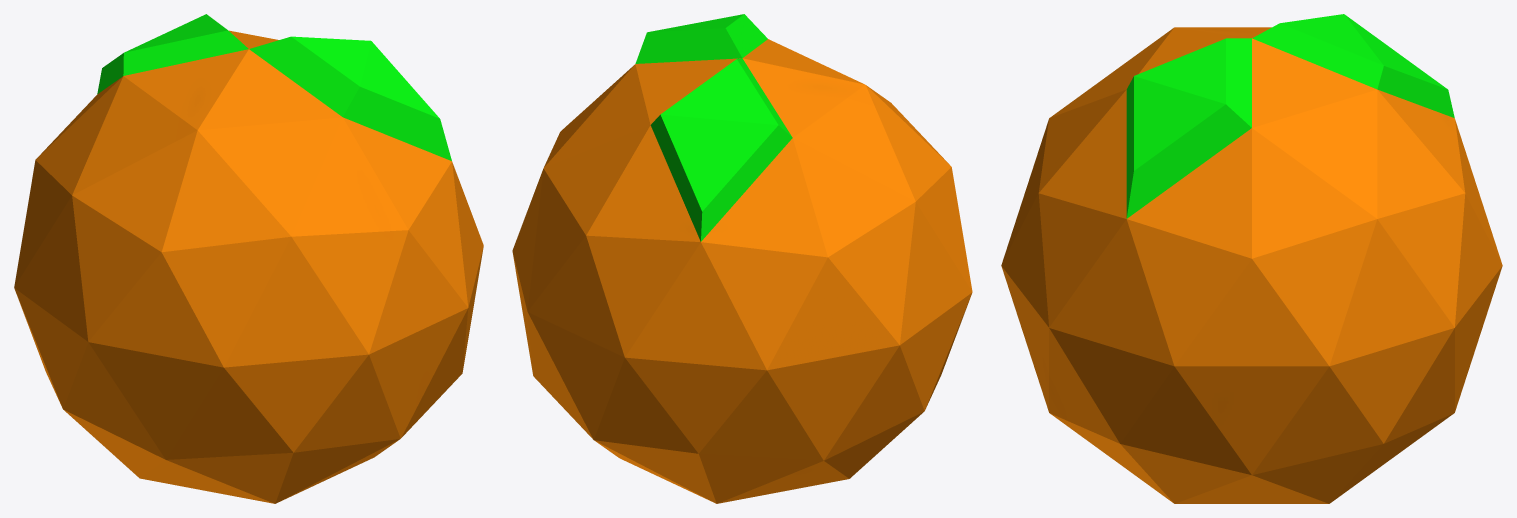
Rendered from orange.fbx.
The picture shows the model from 3 angles, left to right: view 1: azimuth 30°, elevation 25°; view 2: azimuth 150°, elevation 25°; view 3: azimuth 270°, elevation 25°; orthographic projection. The views are drawn at different scales.
Visible parts, largest first — view 1: Icosphere; view 2: Icosphere; view 3: Icosphere.
Part boxes in pixels (x1,y1,x2,y2): Icosphere: (14, 14, 483, 503); Icosphere: (512, 14, 972, 503); Icosphere: (1001, 14, 1502, 503).
Bounding box in the file's own units: 190 × 207 × 200.
